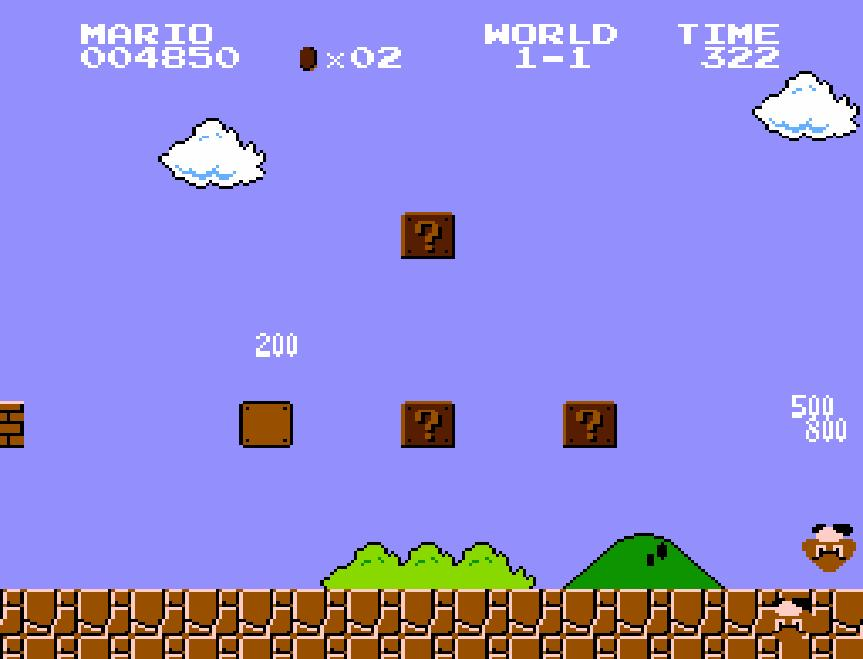little_mario: (379, 497, 437, 546)
